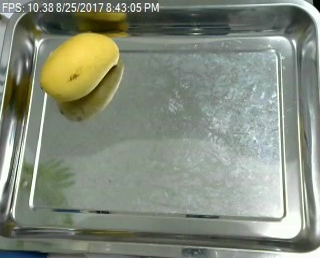Mango: (37, 27, 125, 106)
